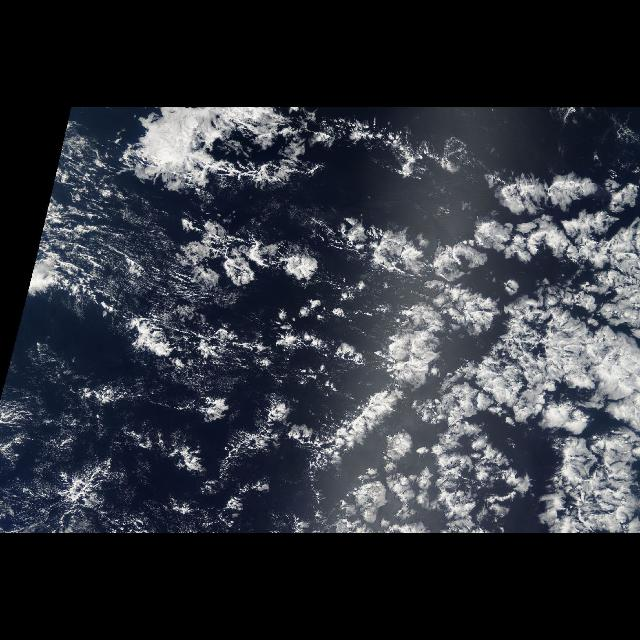Flower: (329, 161, 639, 529)
Gravel: (116, 214, 324, 404)
Sugar: (18, 186, 230, 532)
